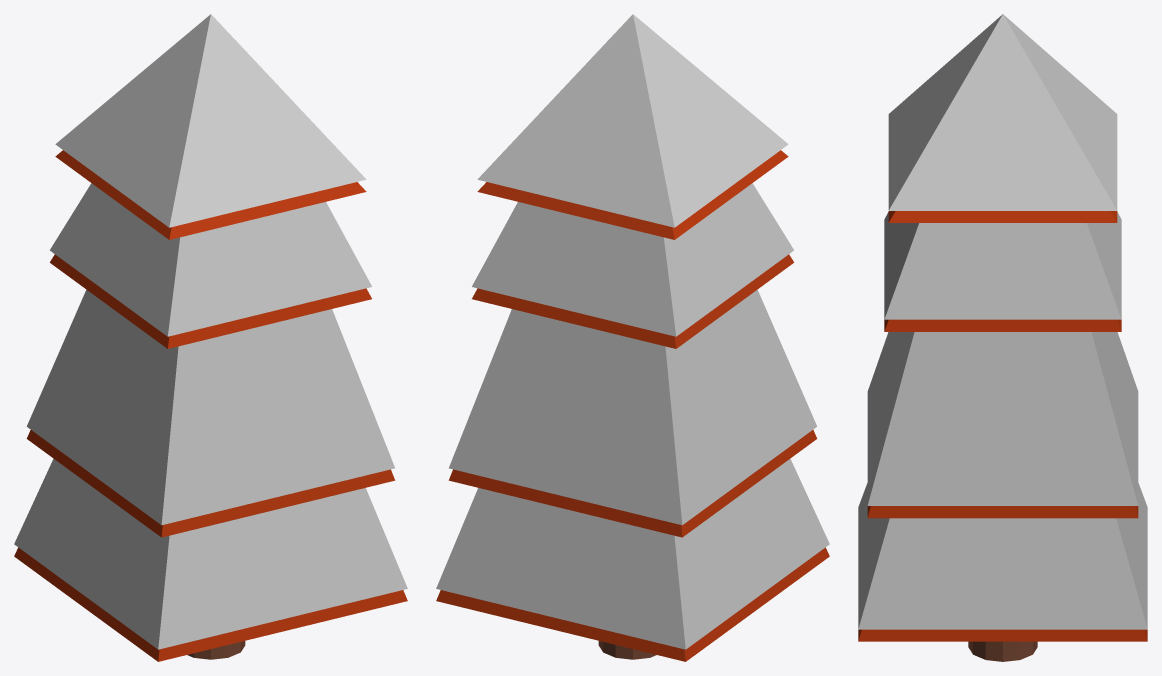
The model's file is Tree_17_winter_red_vc.fbx.
3 renders of one model, left to right at view 1: azimuth 30°, elevation 25°; view 2: azimuth 150°, elevation 25°; view 3: azimuth 270°, elevation 25°, orthographic.
Parts seen in each view (by area): view 1: Tree_17_winter_red_vc; view 2: Tree_17_winter_red_vc; view 3: Tree_17_winter_red_vc.
Boxes of the visible parts, x1,y1,x2,y2 form: Tree_17_winter_red_vc: [14, 14, 407, 661]; Tree_17_winter_red_vc: [436, 14, 829, 661]; Tree_17_winter_red_vc: [858, 14, 1147, 661].
Bounding box in the file's own units: 65.5 × 158 × 65.5.
